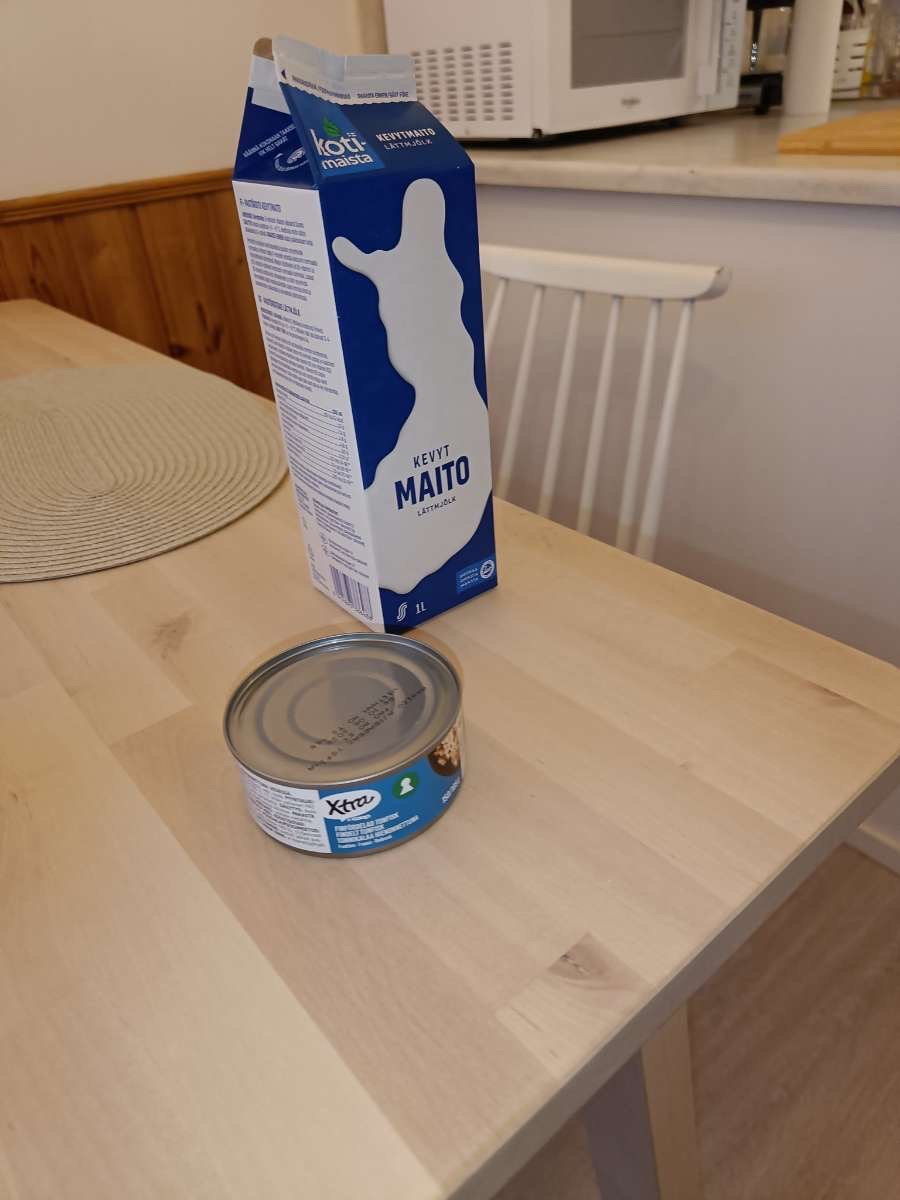Dryckeskartong: (213, 18, 506, 632)
Konservburk: (211, 632, 486, 861)
